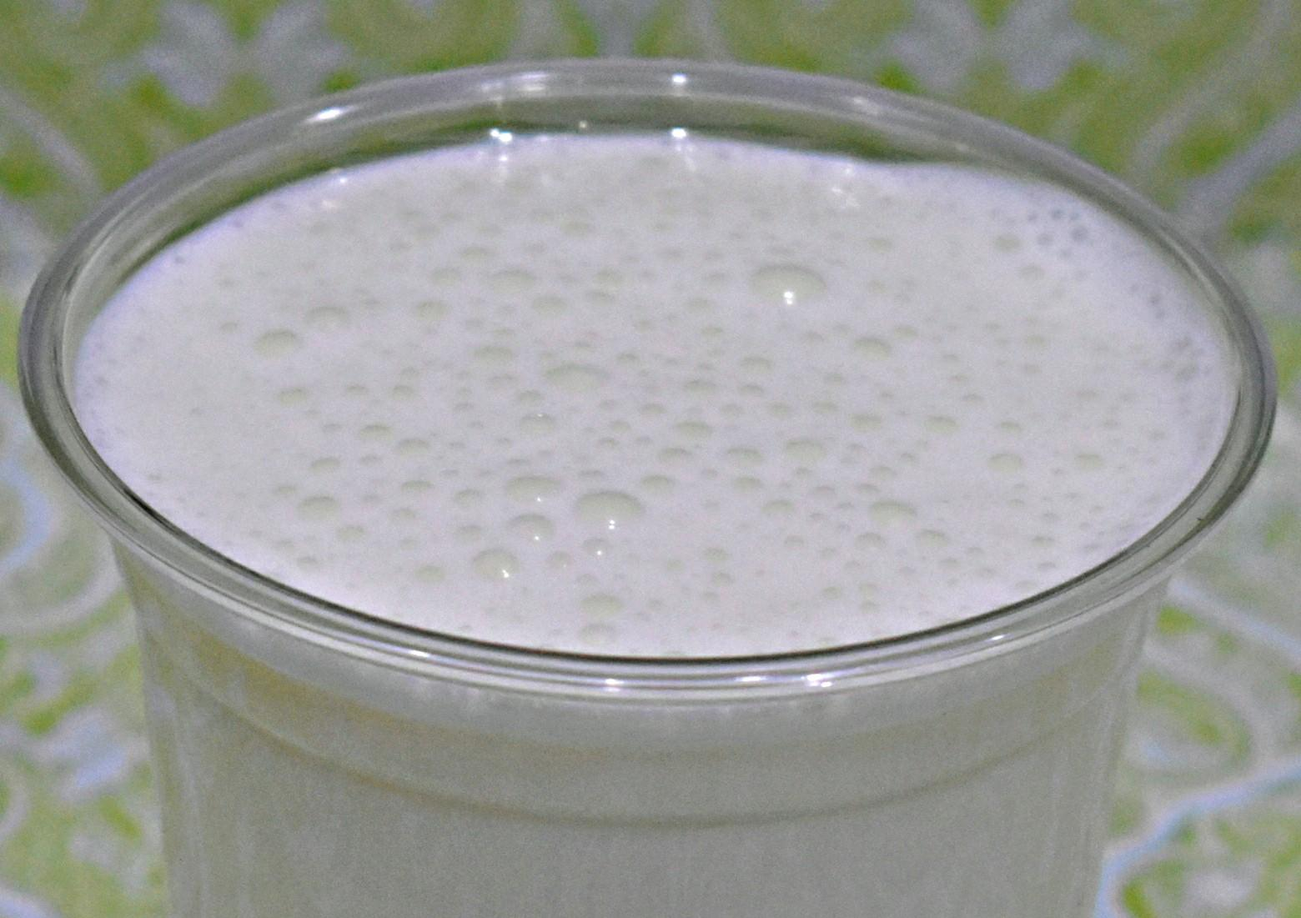Lassi: (71, 131, 1237, 918)
